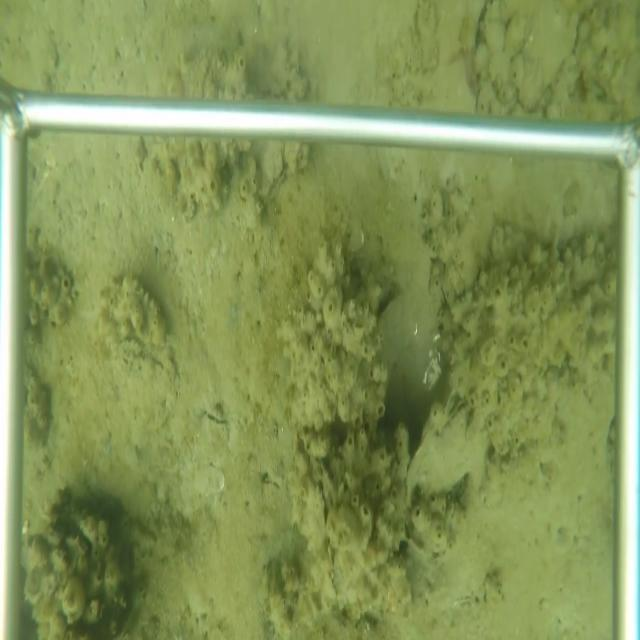Oyster-Indeterminate: (403, 390, 495, 515), (513, 4, 582, 110)
